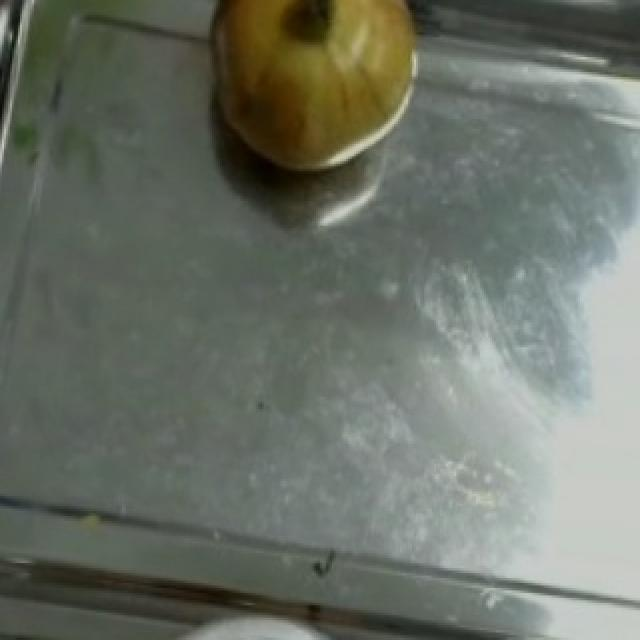fruit: (182, 0, 450, 203)
